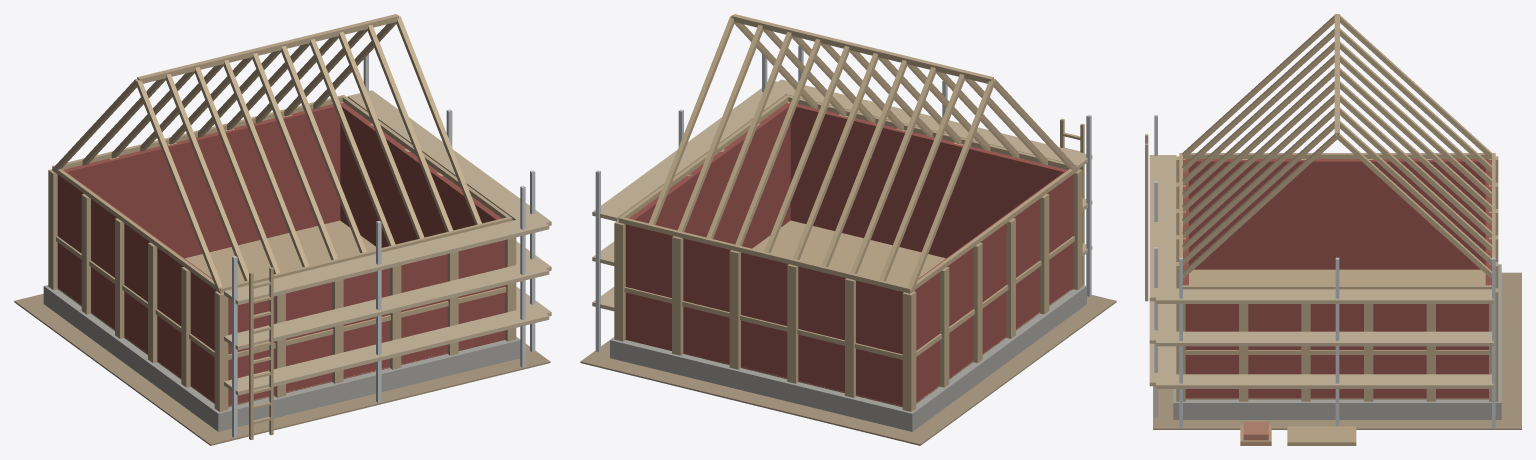
The model's file is barn_site_9.glb.
3 views of the same model, side by side, from view 1: azimuth 30°, elevation 25°; view 2: azimuth 150°, elevation 25°; view 3: azimuth 270°, elevation 25° (orthographic). The views are drawn at different scales.
Visible parts, largest first — view 1: body; view 2: body; view 3: body.
Boxes of the visible parts, <box> form: body: <box>14,14,551,445</box>; body: <box>580,14,1116,445</box>; body: <box>1145,14,1521,445</box>.
Size of the model in its own units: 2.6 by 1.92 by 2.41.
